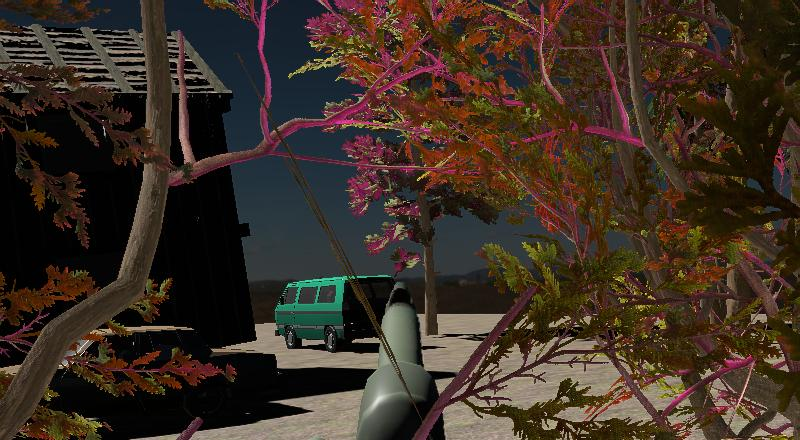car: (272, 273, 403, 354)
